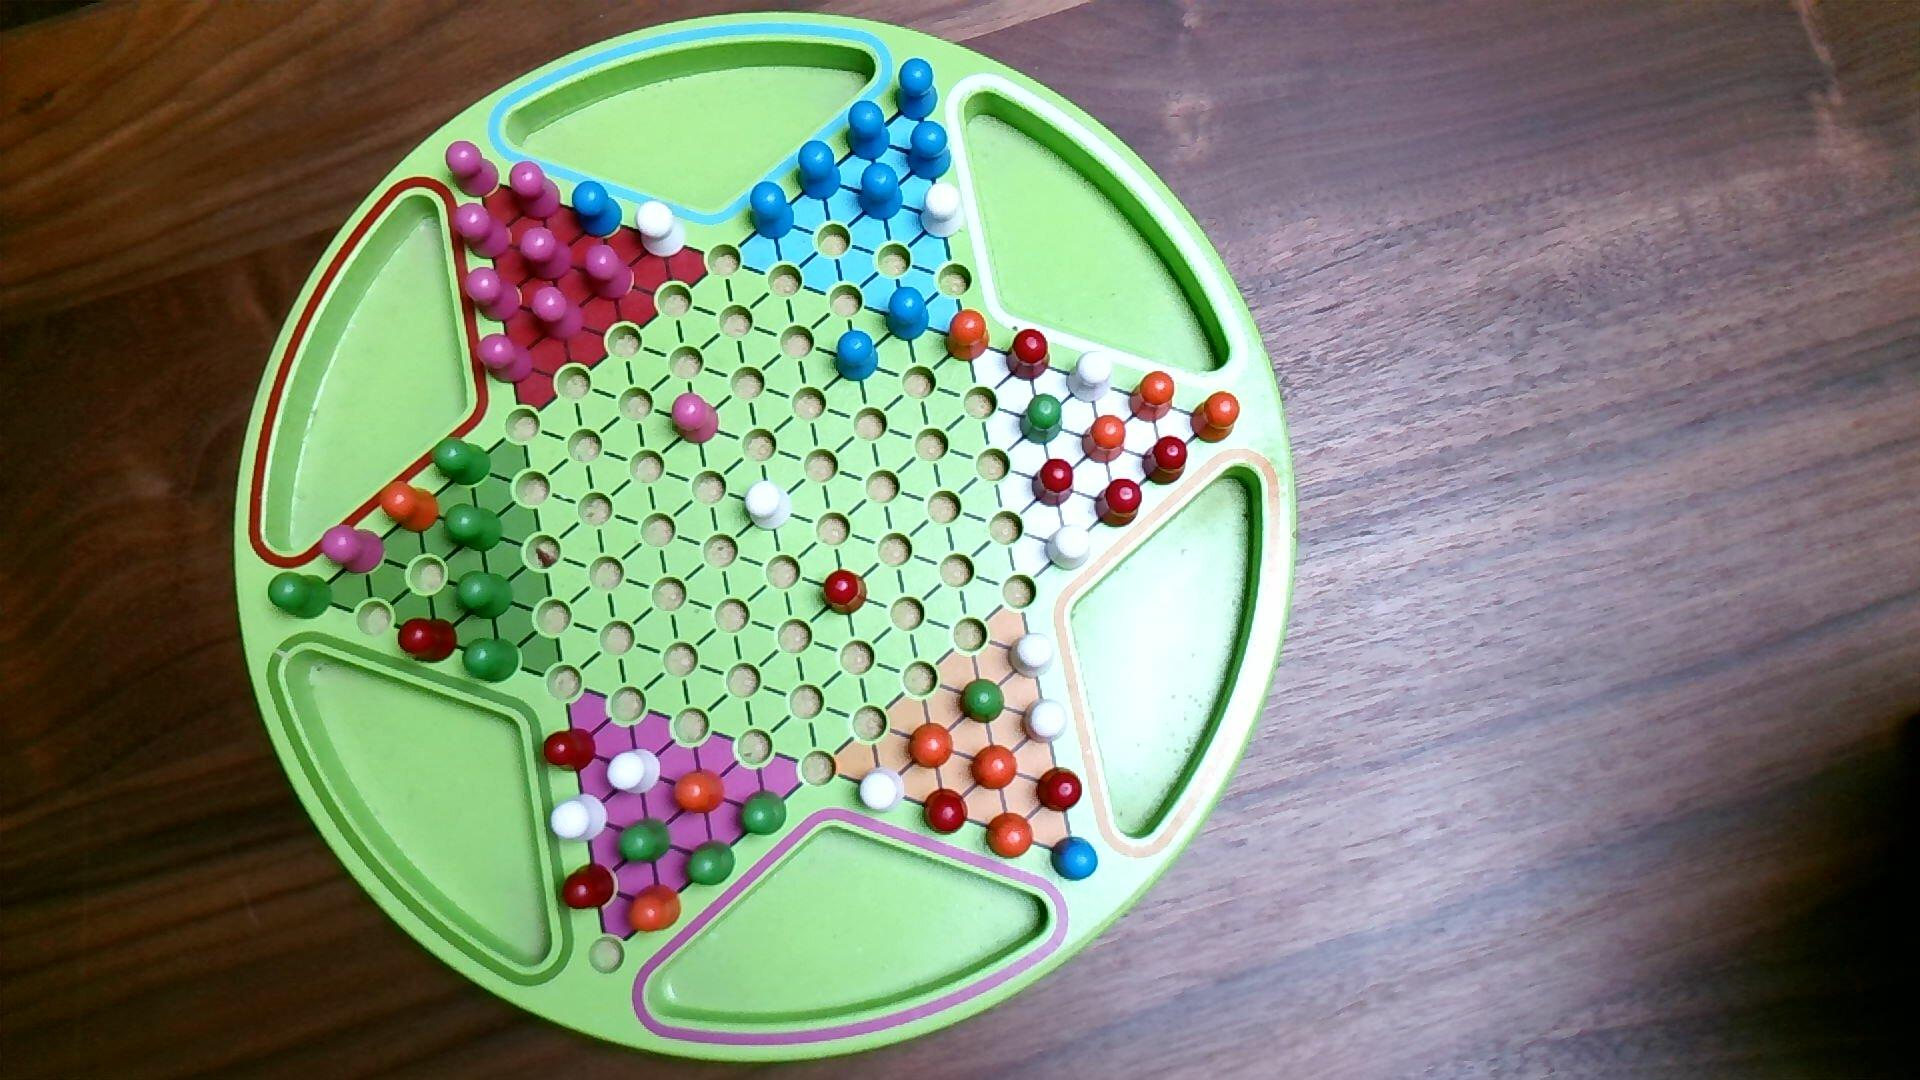B: (571, 179, 625, 243), (843, 99, 893, 164), (893, 55, 940, 123), (746, 179, 796, 243), (794, 138, 843, 203), (906, 119, 953, 183), (857, 160, 905, 223), (885, 285, 932, 344), (1048, 833, 1101, 885), (833, 328, 881, 385)
G: (440, 500, 506, 556), (266, 570, 335, 622), (431, 434, 495, 489), (454, 568, 517, 622), (615, 814, 674, 868), (462, 636, 524, 687), (683, 837, 738, 889), (1019, 392, 1065, 448), (738, 789, 789, 839), (957, 676, 1007, 727)
O: (378, 479, 442, 535), (622, 882, 684, 935), (1189, 389, 1242, 446), (670, 767, 729, 818), (943, 307, 992, 365), (1127, 369, 1178, 425), (984, 811, 1036, 862), (971, 742, 1021, 794), (1081, 413, 1129, 467), (907, 721, 956, 771)
R: (397, 615, 460, 667), (560, 861, 617, 913), (1005, 327, 1054, 384), (542, 727, 599, 775), (1095, 477, 1145, 530), (1141, 434, 1189, 488), (1035, 765, 1085, 815), (920, 787, 971, 837), (822, 568, 870, 618), (1031, 458, 1076, 509)
R2: (451, 200, 514, 262), (508, 160, 564, 224), (319, 524, 386, 578), (444, 138, 502, 200), (463, 266, 524, 324), (530, 284, 588, 344), (475, 331, 537, 386), (582, 243, 637, 305), (520, 225, 576, 284), (670, 392, 721, 447)
W: (634, 198, 688, 262), (549, 791, 611, 845), (918, 179, 967, 241), (607, 746, 665, 798), (1065, 349, 1116, 406), (857, 765, 909, 818), (744, 479, 795, 531), (1044, 522, 1095, 575), (1007, 630, 1058, 680), (1022, 696, 1069, 746)
